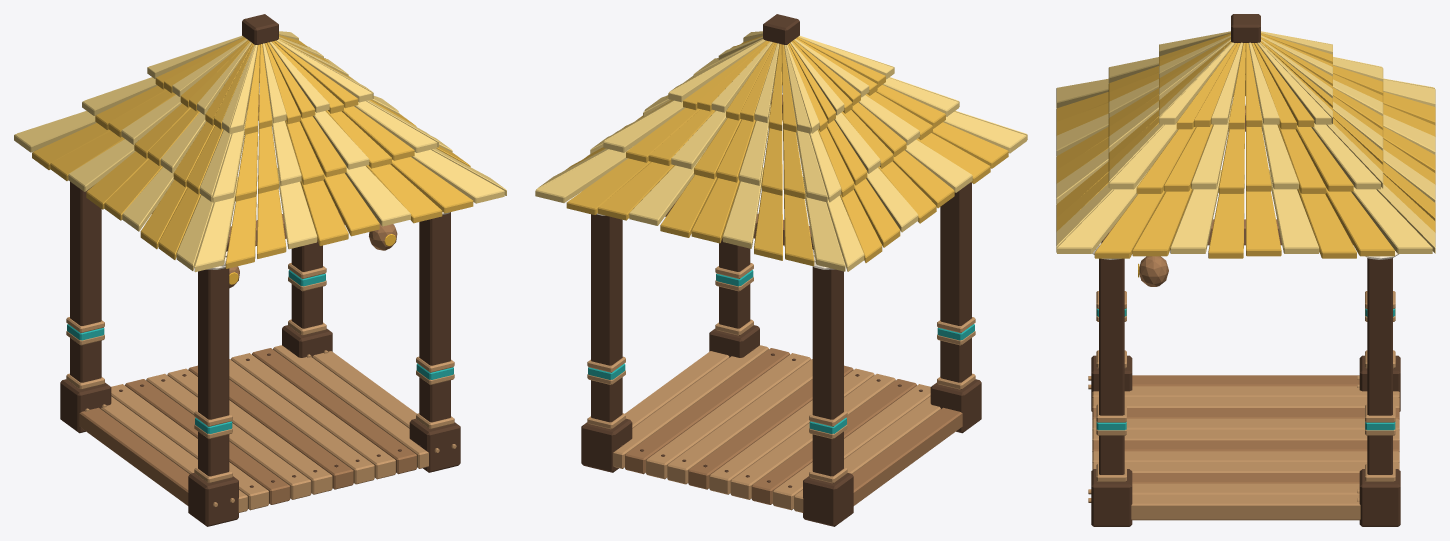
File: tiki-hut.glb
3 views of the same model, side by side, from view 1: azimuth 30°, elevation 25°; view 2: azimuth 150°, elevation 25°; view 3: azimuth 270°, elevation 25° (orthographic). The views are drawn at different scales.
Visible parts, largest first — view 1: Dark wood support post.008, Dark wood support post.010, Dark wood support post.009, Floor plank 00.002, Floor plank 08.002, Floor plank 09.002, Floor plank 07.002, Floor plank 10.002, Floor plank 06.002, Floor plank 05.002, Floor plank 03.002, Floor plank 04.002 (+63 smaller); view 2: Dark wood support post.009, Dark wood support post.011, Dark wood support post.008, Floor plank 00.002, Floor plank 08.002, Floor plank 09.002, Floor plank 07.002, Floor plank 10.002, Floor plank 06.002, Floor plank 05.002, Floor plank 03.002, Floor plank 04.002 (+66 smaller); view 3: Floor plank 11.002, Dark wood support post.010, Dark wood support post.011, Floor plank 06.002, Floor plank 05.002, Floor plank 04.002, Floor plank 07.002, Floor plank 02.002, Floor plank 03.002, Floor plank 10.002, Floor plank 00.002, Floor plank 01.002 (+79 smaller).
Part boxes in pixels (x1=…): Dark wood support post.008: x1=198, y1=242, x2=229, y2=476; Dark wood support post.010: x1=419, y1=212, x2=450, y2=422; Dark wood support post.009: x1=70, y1=181, x2=101, y2=382; Floor plank 00.002: x1=79, y1=407, x2=189, y2=505; Floor plank 08.002: x1=230, y1=353, x2=395, y2=479; Floor plank 09.002: x1=252, y1=348, x2=416, y2=474; Floor plank 07.002: x1=229, y1=359, x2=374, y2=484; Floor plank 10.002: x1=273, y1=345, x2=428, y2=468; Floor plank 06.002: x1=188, y1=365, x2=353, y2=489; Floor plank 05.002: x1=167, y1=368, x2=332, y2=494; Floor plank 03.002: x1=125, y1=379, x2=290, y2=504; Floor plank 04.002: x1=146, y1=373, x2=311, y2=499; Dark wood support post.009: x1=812, y1=244, x2=843, y2=476; Dark wood support post.011: x1=591, y1=214, x2=622, y2=422; Dark wood support post.008: x1=940, y1=182, x2=971, y2=382; Floor plank 00.002: x1=852, y1=407, x2=962, y2=505; Floor plank 08.002: x1=646, y1=353, x2=811, y2=479; Floor plank 09.002: x1=625, y1=348, x2=789, y2=474; Floor plank 07.002: x1=667, y1=359, x2=812, y2=484; Floor plank 10.002: x1=613, y1=345, x2=768, y2=468; Floor plank 06.002: x1=688, y1=365, x2=853, y2=489; Floor plank 05.002: x1=709, y1=368, x2=874, y2=494; Floor plank 03.002: x1=751, y1=379, x2=916, y2=504; Floor plank 04.002: x1=730, y1=373, x2=895, y2=499; Floor plank 11.002: x1=1131, y1=494, x2=1360, y2=520; Dark wood support post.010: x1=1099, y1=258, x2=1124, y2=474; Dark wood support post.011: x1=1367, y1=258, x2=1392, y2=474; Floor plank 06.002: x1=1092, y1=440, x2=1399, y2=451; Floor plank 05.002: x1=1092, y1=429, x2=1399, y2=440; Floor plank 04.002: x1=1092, y1=418, x2=1399, y2=430; Floor plank 07.002: x1=1092, y1=451, x2=1399, y2=462; Floor plank 02.002: x1=1092, y1=397, x2=1399, y2=408; Floor plank 03.002: x1=1092, y1=408, x2=1399, y2=419; Floor plank 10.002: x1=1132, y1=483, x2=1359, y2=494; Floor plank 00.002: x1=1132, y1=375, x2=1359, y2=386; Floor plank 01.002: x1=1092, y1=386, x2=1399, y2=397.
Size of the model in its own units: 3.7 by 4.77 by 3.7.
